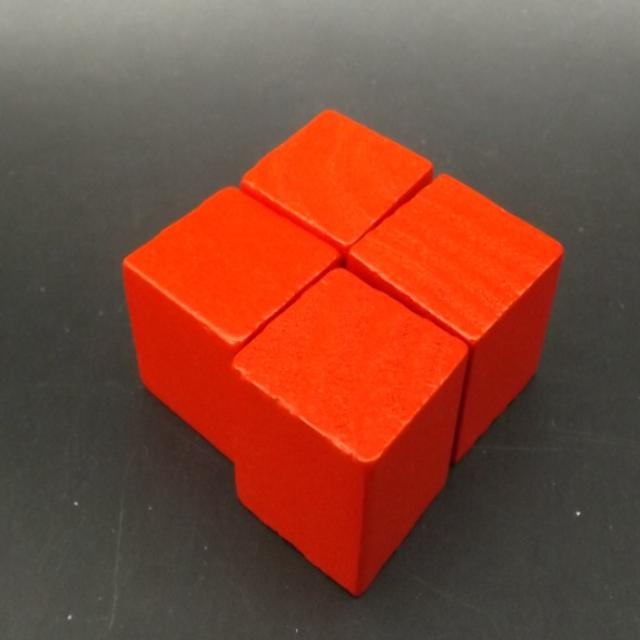red cube: (233, 265, 470, 599), (344, 171, 564, 464), (119, 183, 344, 462), (241, 104, 436, 255)
